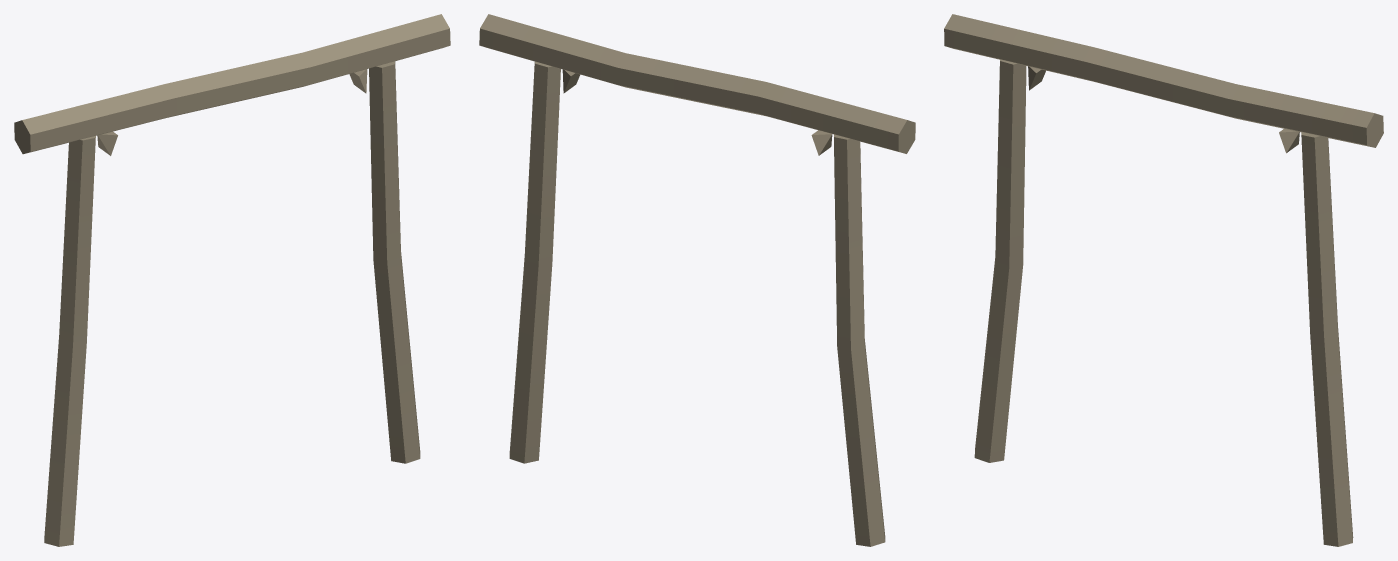
File: ProppedAdit.fbx
3 renders of one model, left to right at view 1: azimuth 30°, elevation 25°; view 2: azimuth 150°, elevation 25°; view 3: azimuth 330°, elevation 25°, orthographic.
Visible parts, largest first — view 1: ProppedAdit; view 2: ProppedAdit; view 3: ProppedAdit.
Part boxes in pixels (box(x1,y1,x2,y2)): ProppedAdit: box(14, 14, 450, 546); ProppedAdit: box(479, 14, 915, 546); ProppedAdit: box(944, 14, 1383, 546).
Bounding box in the file's own units: 2.31 × 2.28 × 0.1821.
